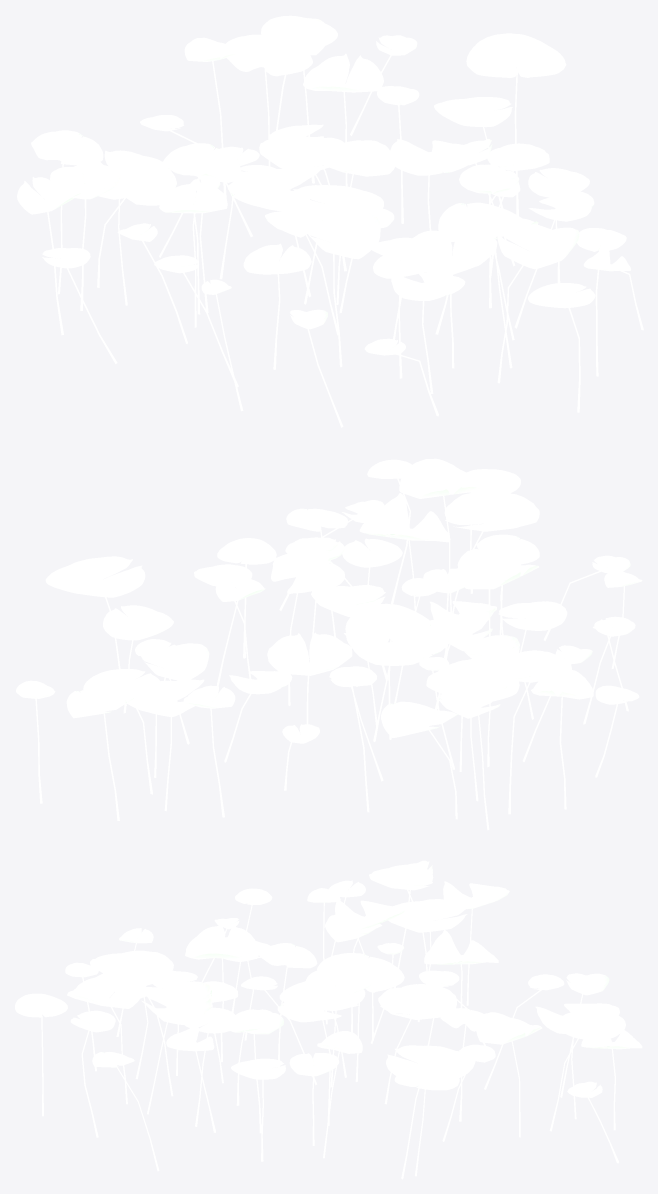
The picture shows the model from 3 angles, top to bottom: view 1: azimuth 30°, elevation 25°; view 2: azimuth 150°, elevation 25°; view 3: azimuth 270°, elevation 25°; orthographic projection. The views are drawn at different scales.
Visible parts, largest first — view 1: SM_WaterLily_02_LOD0; view 2: SM_WaterLily_02_LOD0; view 3: SM_WaterLily_02_LOD0.
Part boxes in pixels (box(x1,y1,x2,y2)): SM_WaterLily_02_LOD0: box(17, 15, 643, 427); SM_WaterLily_02_LOD0: box(16, 458, 642, 830); SM_WaterLily_02_LOD0: box(15, 860, 642, 1179).
Bounding box in the file's own units: 3.96 × 1.08 × 4.51.
Materials: 1 (1 with a texture image).
